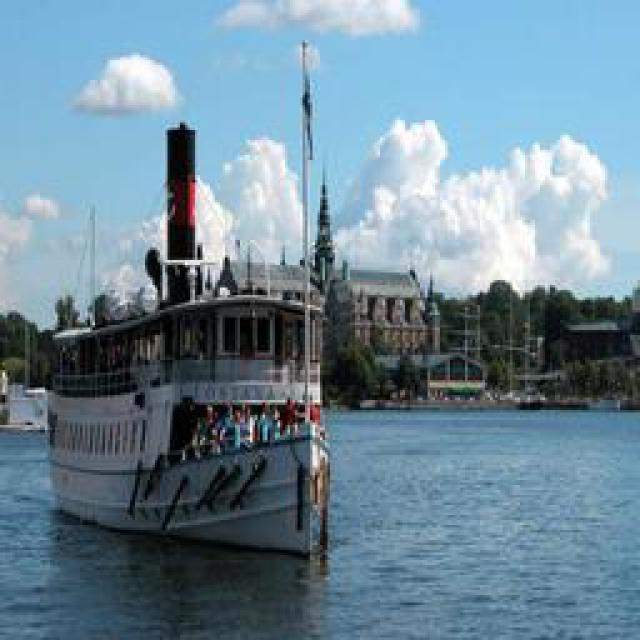Ship: (47, 150, 330, 560)
